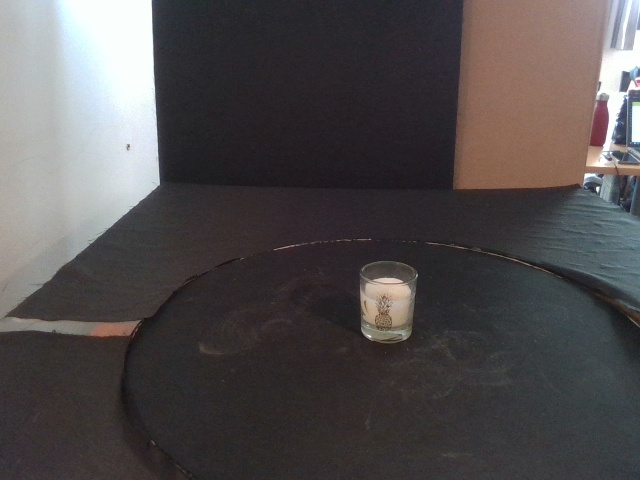candle: (358, 261, 418, 344)
